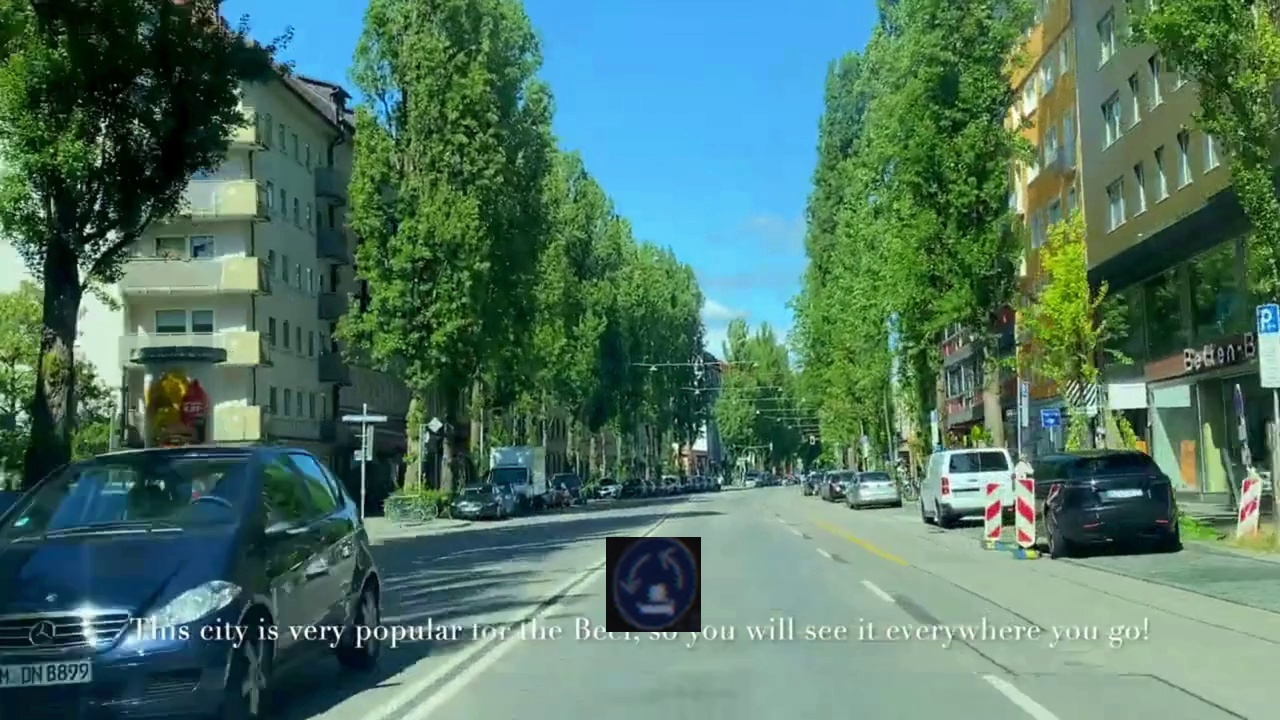Roundabout: (606, 537, 701, 632)
